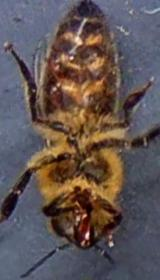varroa_mite: (41, 75, 68, 109), (44, 53, 66, 74)
